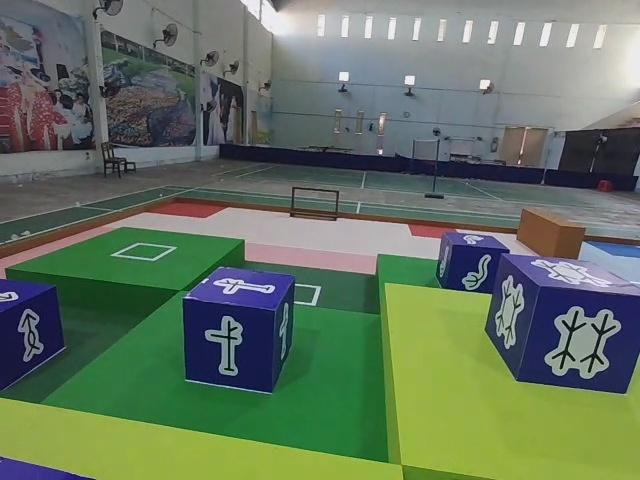R2 Real Blue: (486, 256, 640, 396), (181, 267, 294, 396), (0, 281, 65, 394), (437, 232, 513, 298)
